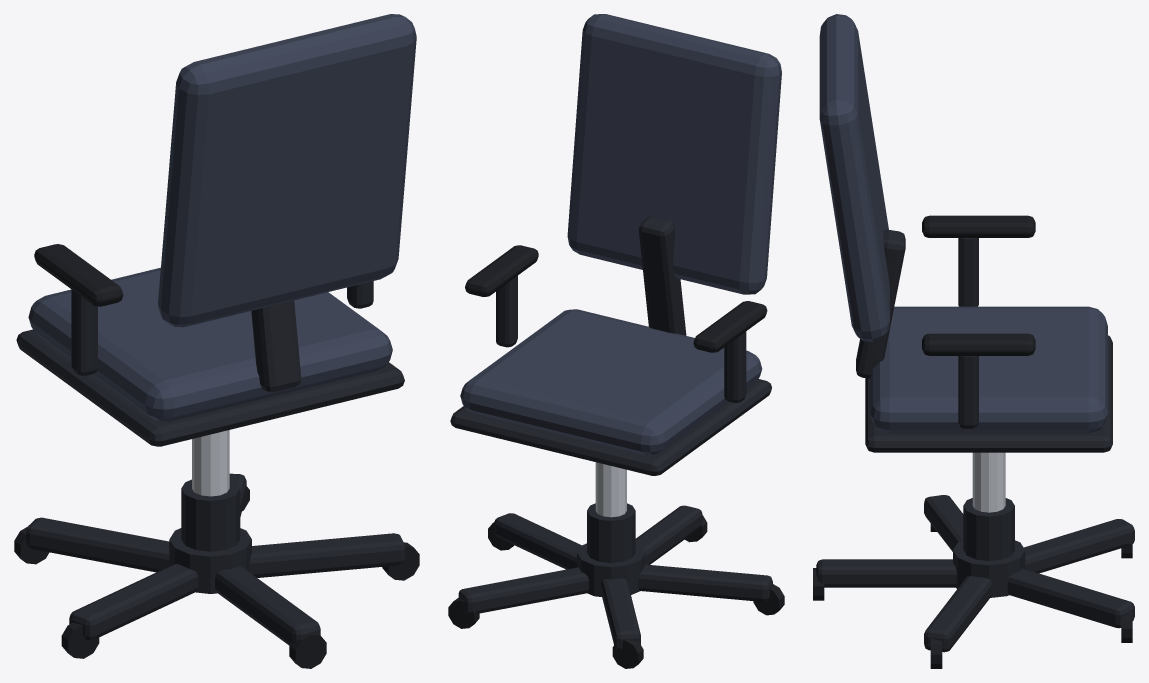
Rendered from chair.glb.
The picture shows the model from 3 angles, left to right: view 1: azimuth 30°, elevation 25°; view 2: azimuth 150°, elevation 25°; view 3: azimuth 270°, elevation 25°; orthographic projection. The views are drawn at different scales.
Parts seen in each view (by area): view 1: star0; view 2: star0; view 3: star0.
Part boxes in pixels (<box>): star0: <box>14,14,419,668</box>; star0: <box>448,14,784,668</box>; star0: <box>813,14,1134,668</box>.
Bounding box in the file's own units: 0.6886 × 1.16 × 0.6233.
